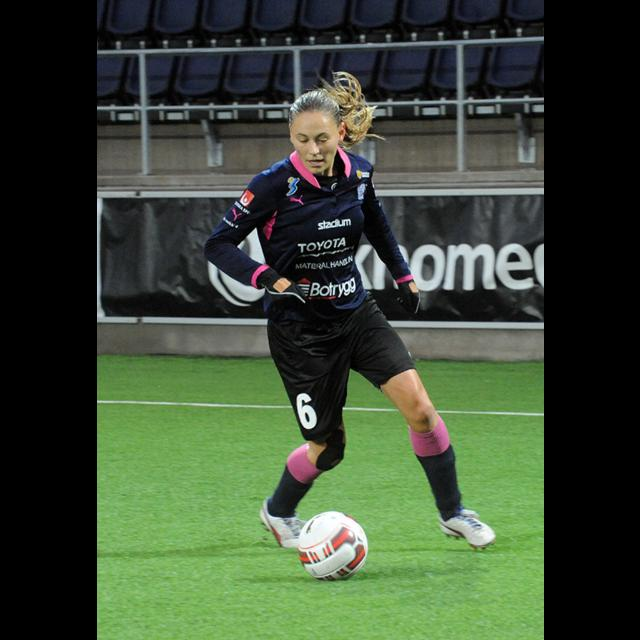Football: (296, 512, 368, 580)
